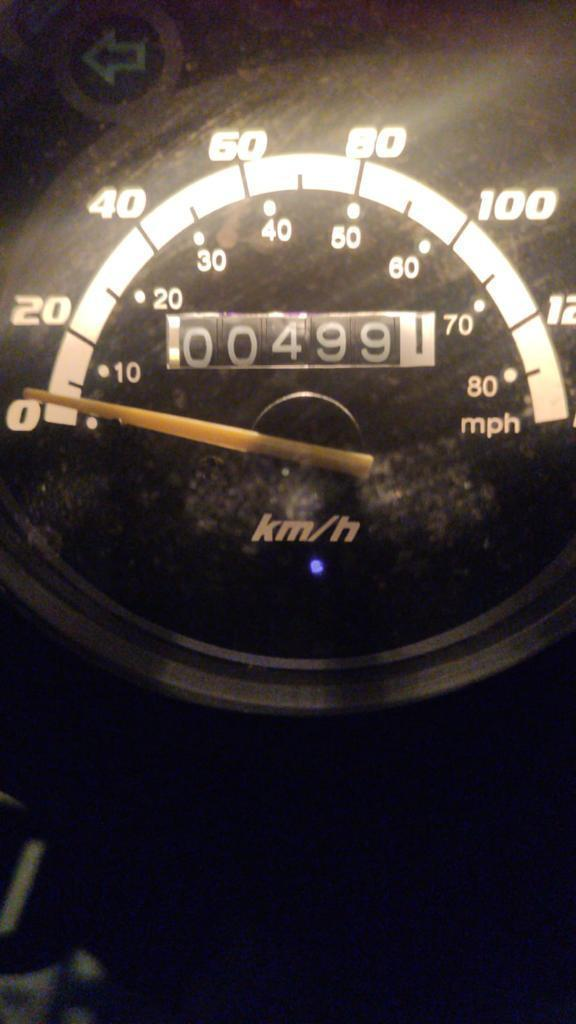0: (181, 326, 213, 368), (226, 325, 257, 366)
1: (414, 313, 423, 355)
4: (271, 321, 301, 360)
9: (359, 321, 391, 363), (315, 321, 347, 362)
odometer: (161, 307, 440, 372)
